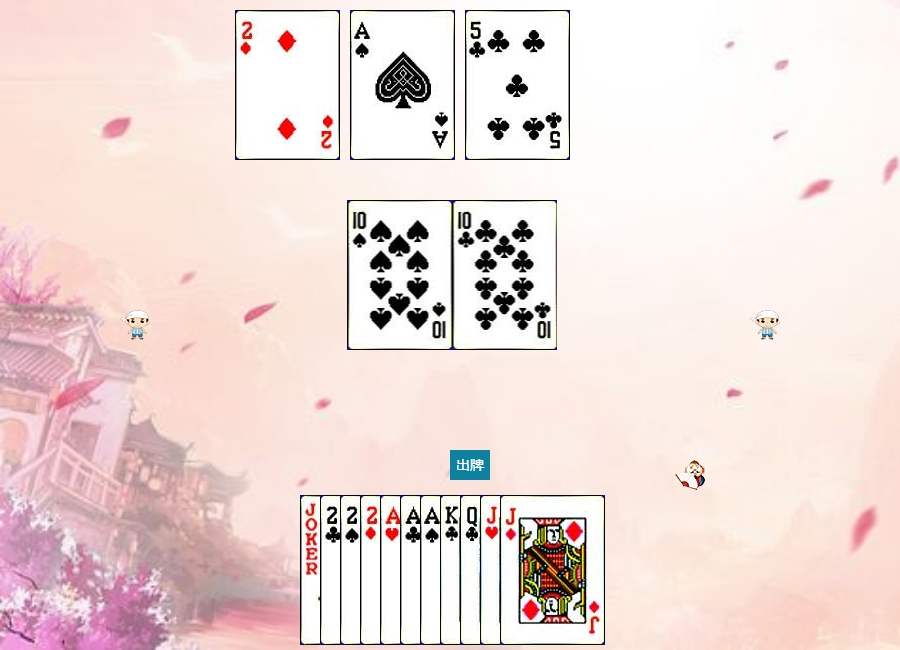10~2: (453, 200, 558, 350)
10~4: (348, 200, 453, 350)
11~1: (500, 495, 605, 645)
11~3: (480, 495, 585, 645)
12~2: (460, 495, 565, 645)
13~2: (440, 495, 545, 645)
14~2: (400, 495, 505, 645)
14~3: (380, 495, 485, 645)
14~4: (350, 10, 455, 160), (420, 495, 525, 645)
15~1: (235, 10, 340, 160), (360, 495, 465, 645)
15~2: (320, 495, 425, 645)
15~4: (340, 495, 445, 645)
18~4: (300, 495, 405, 645)
5~2: (465, 10, 570, 160)
